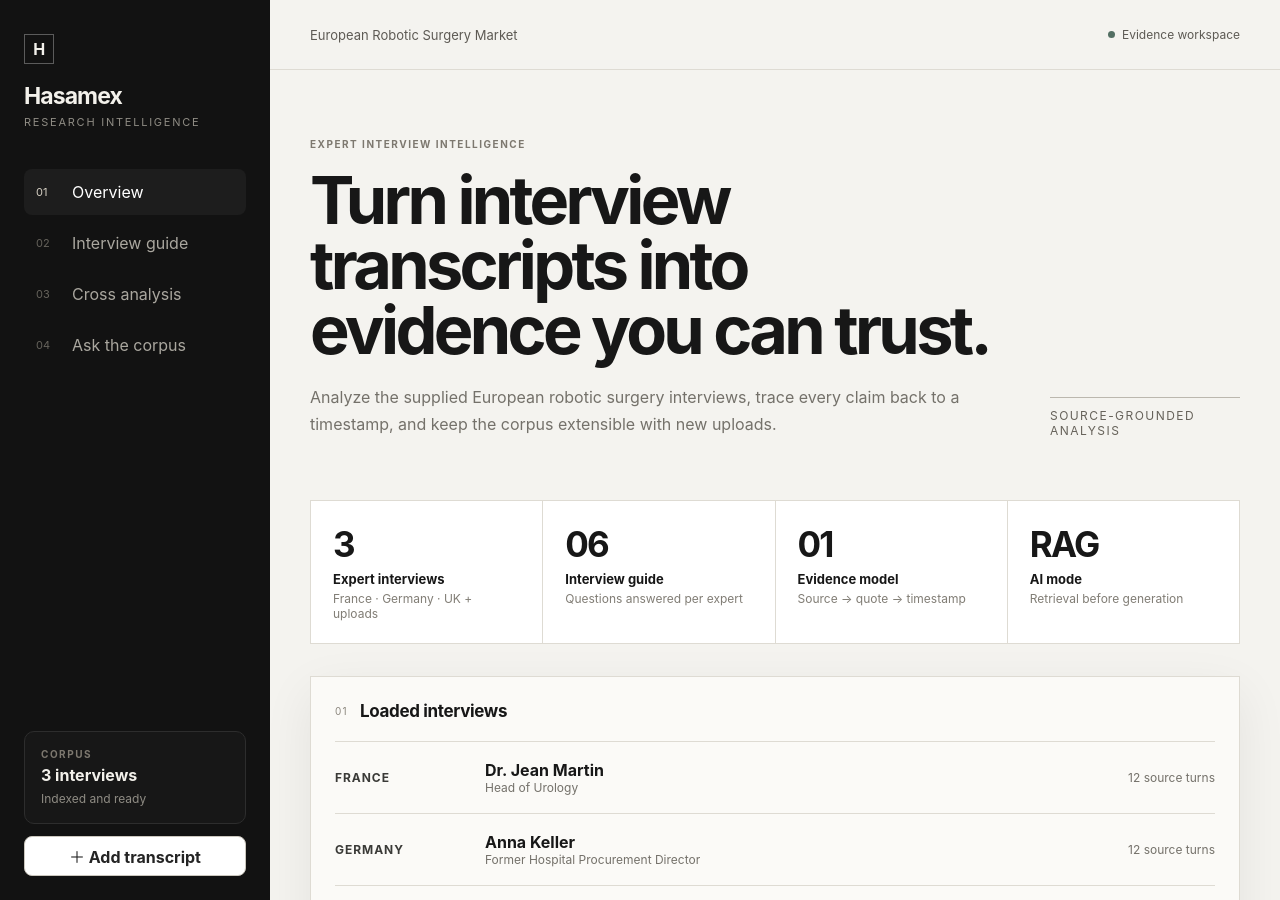
switches navigation to ask view
This screenshot has width=1280, height=900.
Click the button "04 Ask the corpus".
click(135, 345)  # box [24, 322, 246, 368]
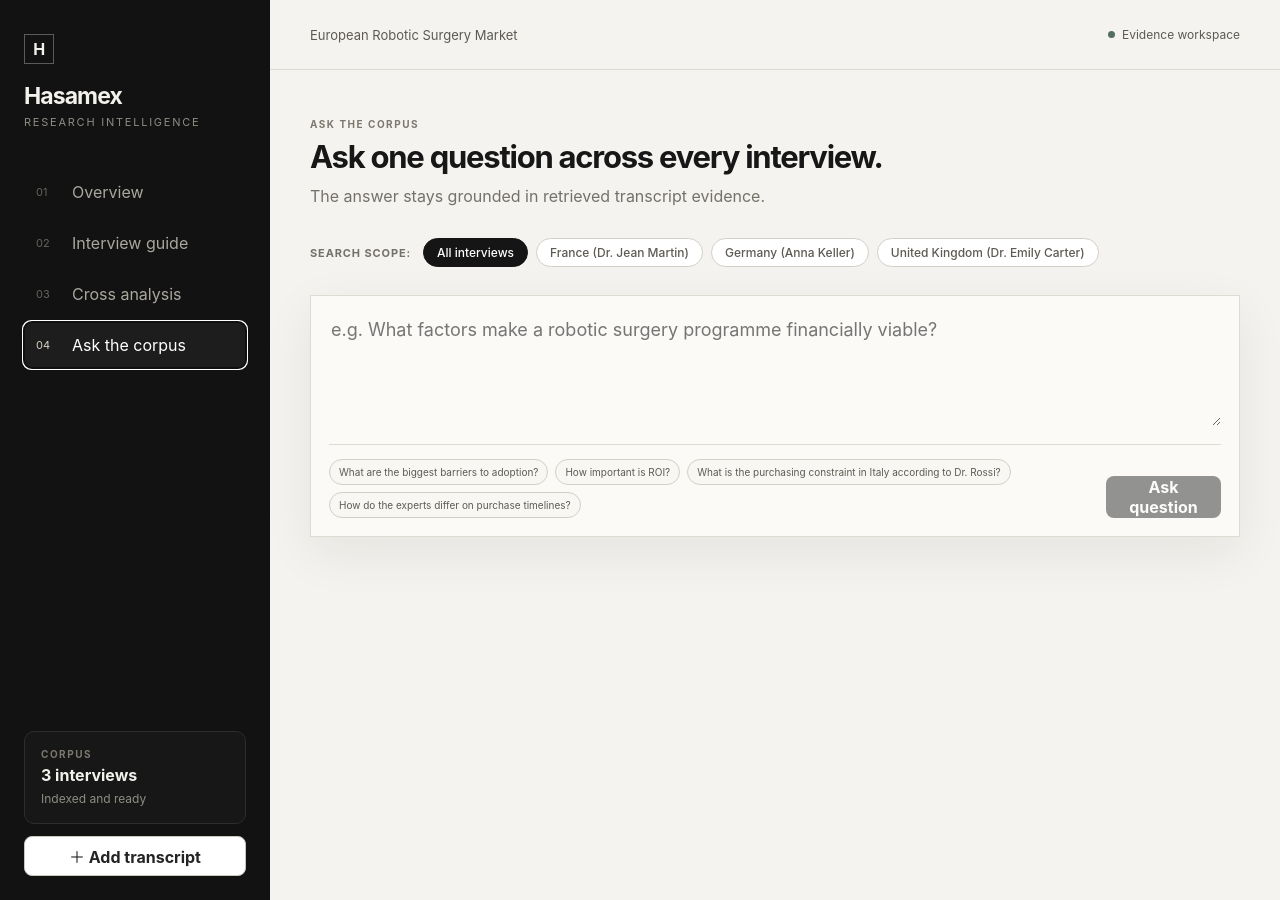
Result: the heading "Ask one question across every interview." is shown at [310, 138, 883, 175]
